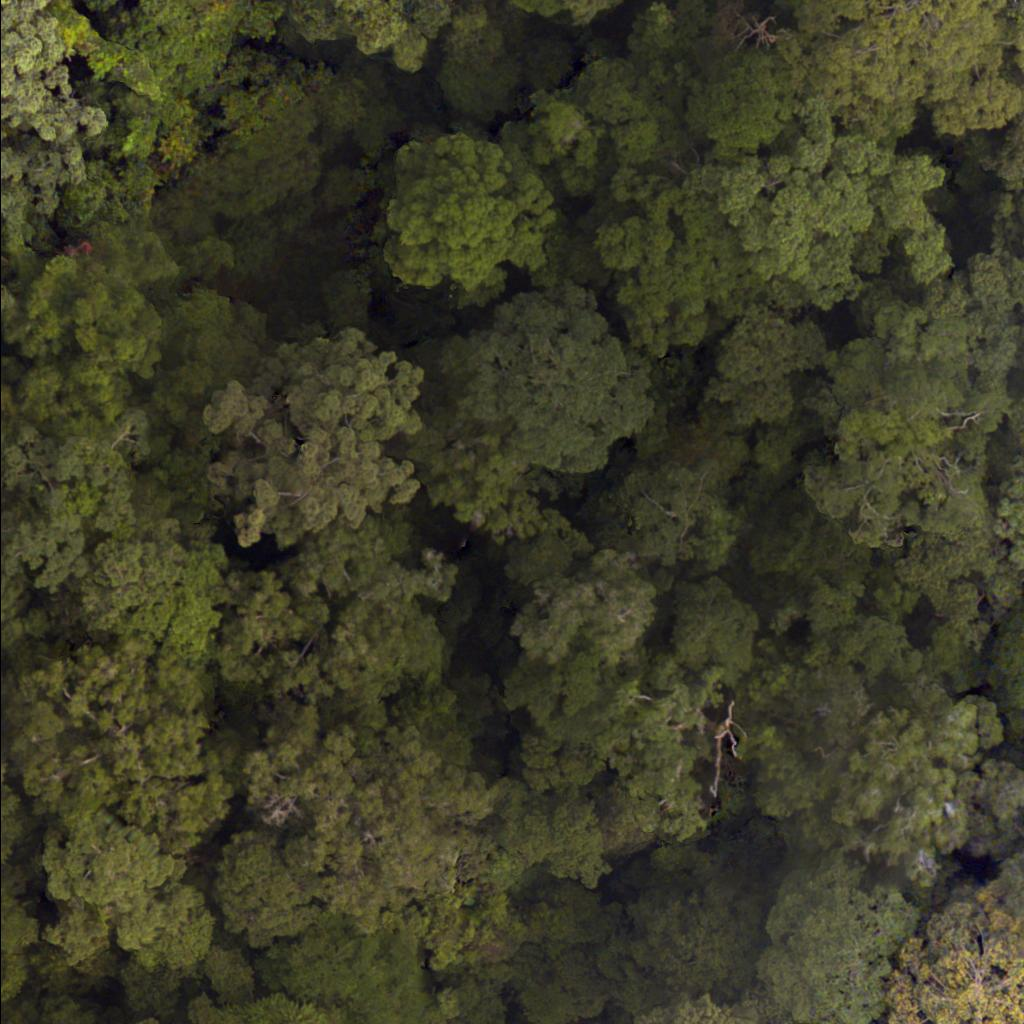crown: (772, 261, 1023, 678), (242, 707, 491, 924), (195, 329, 428, 543), (8, 642, 234, 857), (739, 115, 952, 337), (432, 283, 654, 468), (839, 680, 1019, 900), (7, 225, 181, 442), (584, 167, 766, 359), (74, 0, 281, 164), (382, 130, 569, 302), (44, 807, 218, 974), (764, 870, 922, 1023), (596, 881, 758, 1023), (0, 0, 110, 190), (258, 916, 444, 1023), (603, 446, 734, 580), (880, 903, 1023, 1023), (207, 821, 339, 947), (294, 0, 478, 73), (636, 992, 764, 1023), (998, 602, 1023, 755), (0, 905, 36, 995), (1001, 819, 1023, 935), (0, 822, 21, 860), (134, 1013, 177, 1023)
